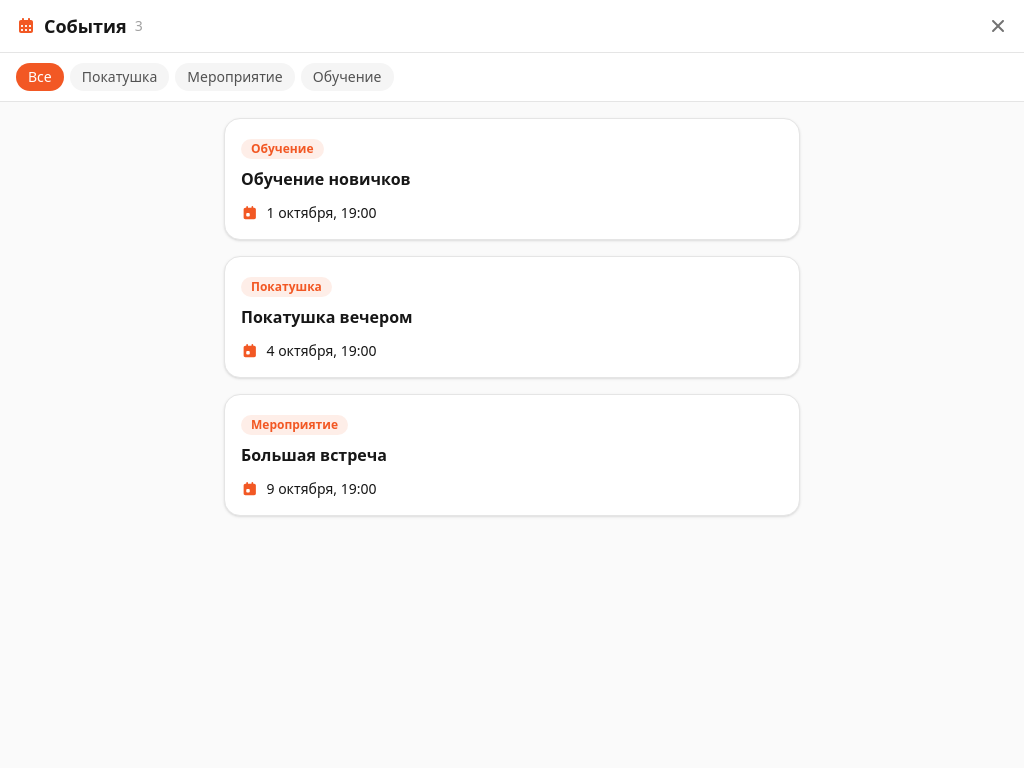
EventsScreen › фильтр «Все» возвращает все события
What coordinates should you click on to do the following:
click the button "Покатушка"
I would click on:
 (120, 77)
Its box is [70,63,169,91].
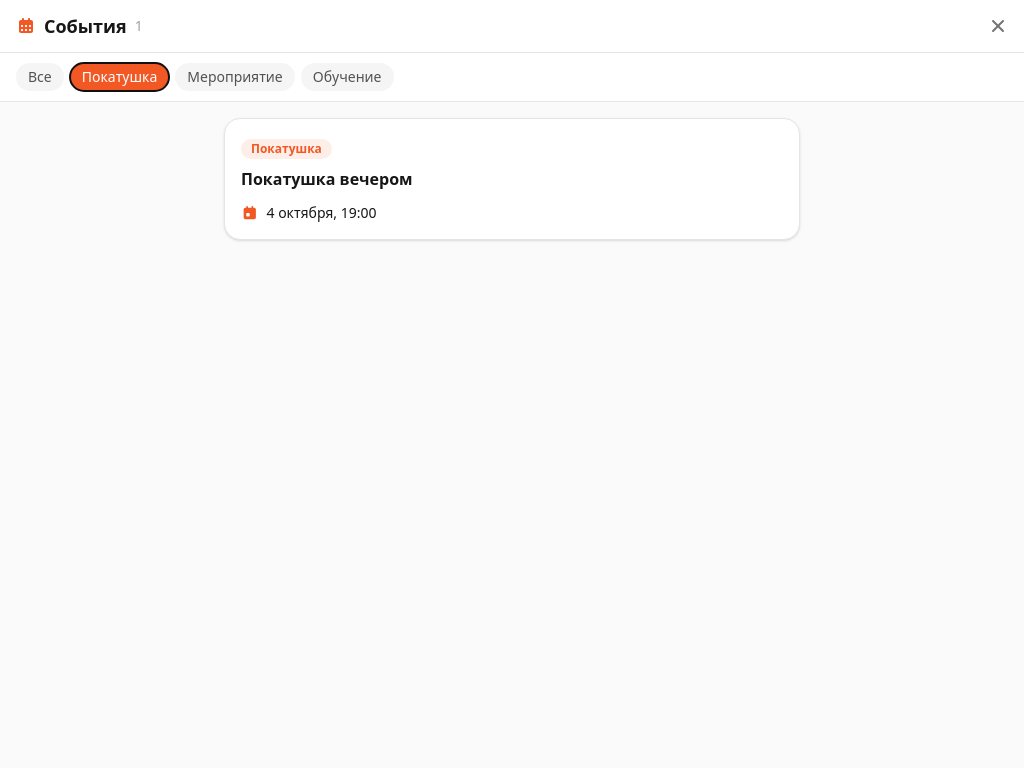
Expected: the link "Обучение новичков" is gone
What coordinates should you click on to do the following:
click the button "Все"
I would click on:
 (40, 77)
Its box is [16,63,64,91].
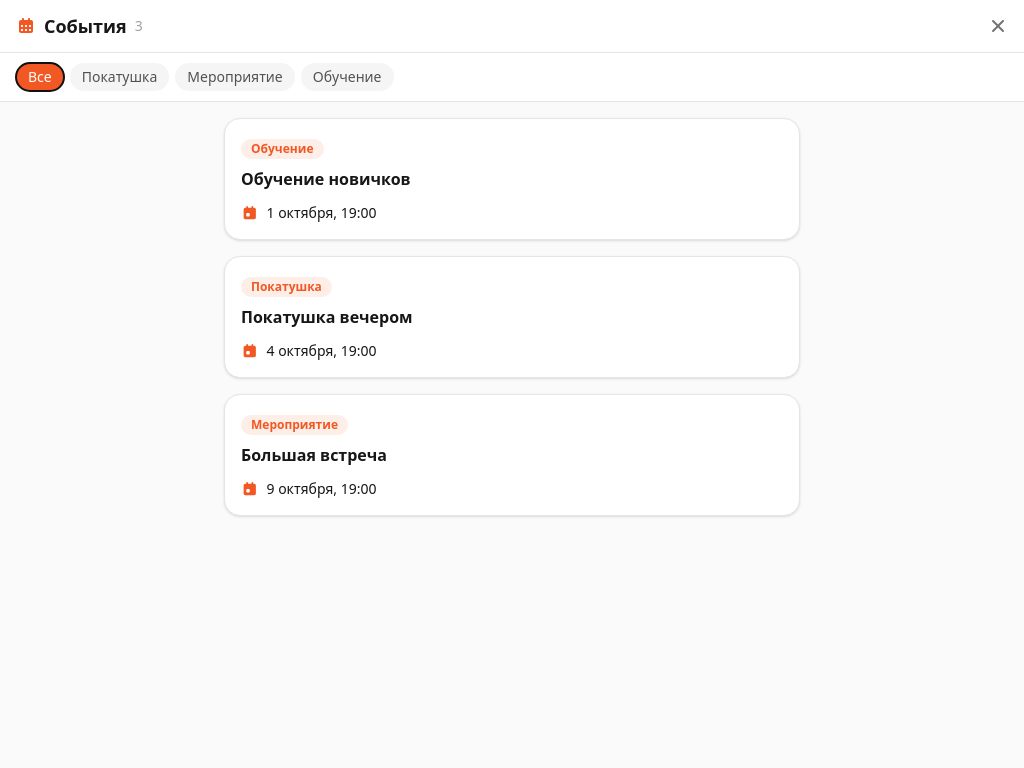
Expected: the heading "Обучение новичков" is shown, [241,168,411,190]
